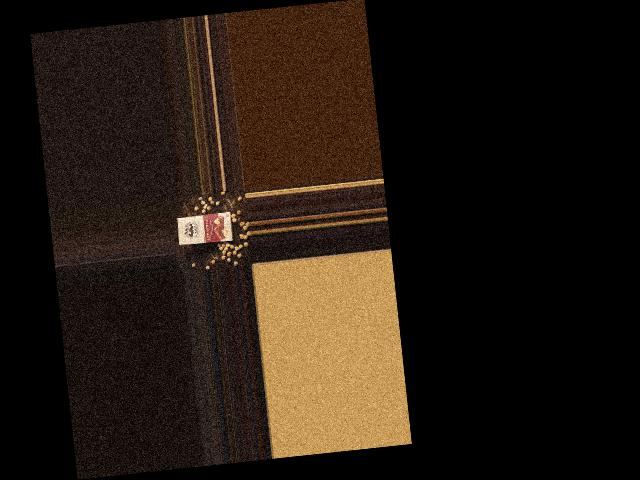chocolate: (175, 210, 235, 249)
